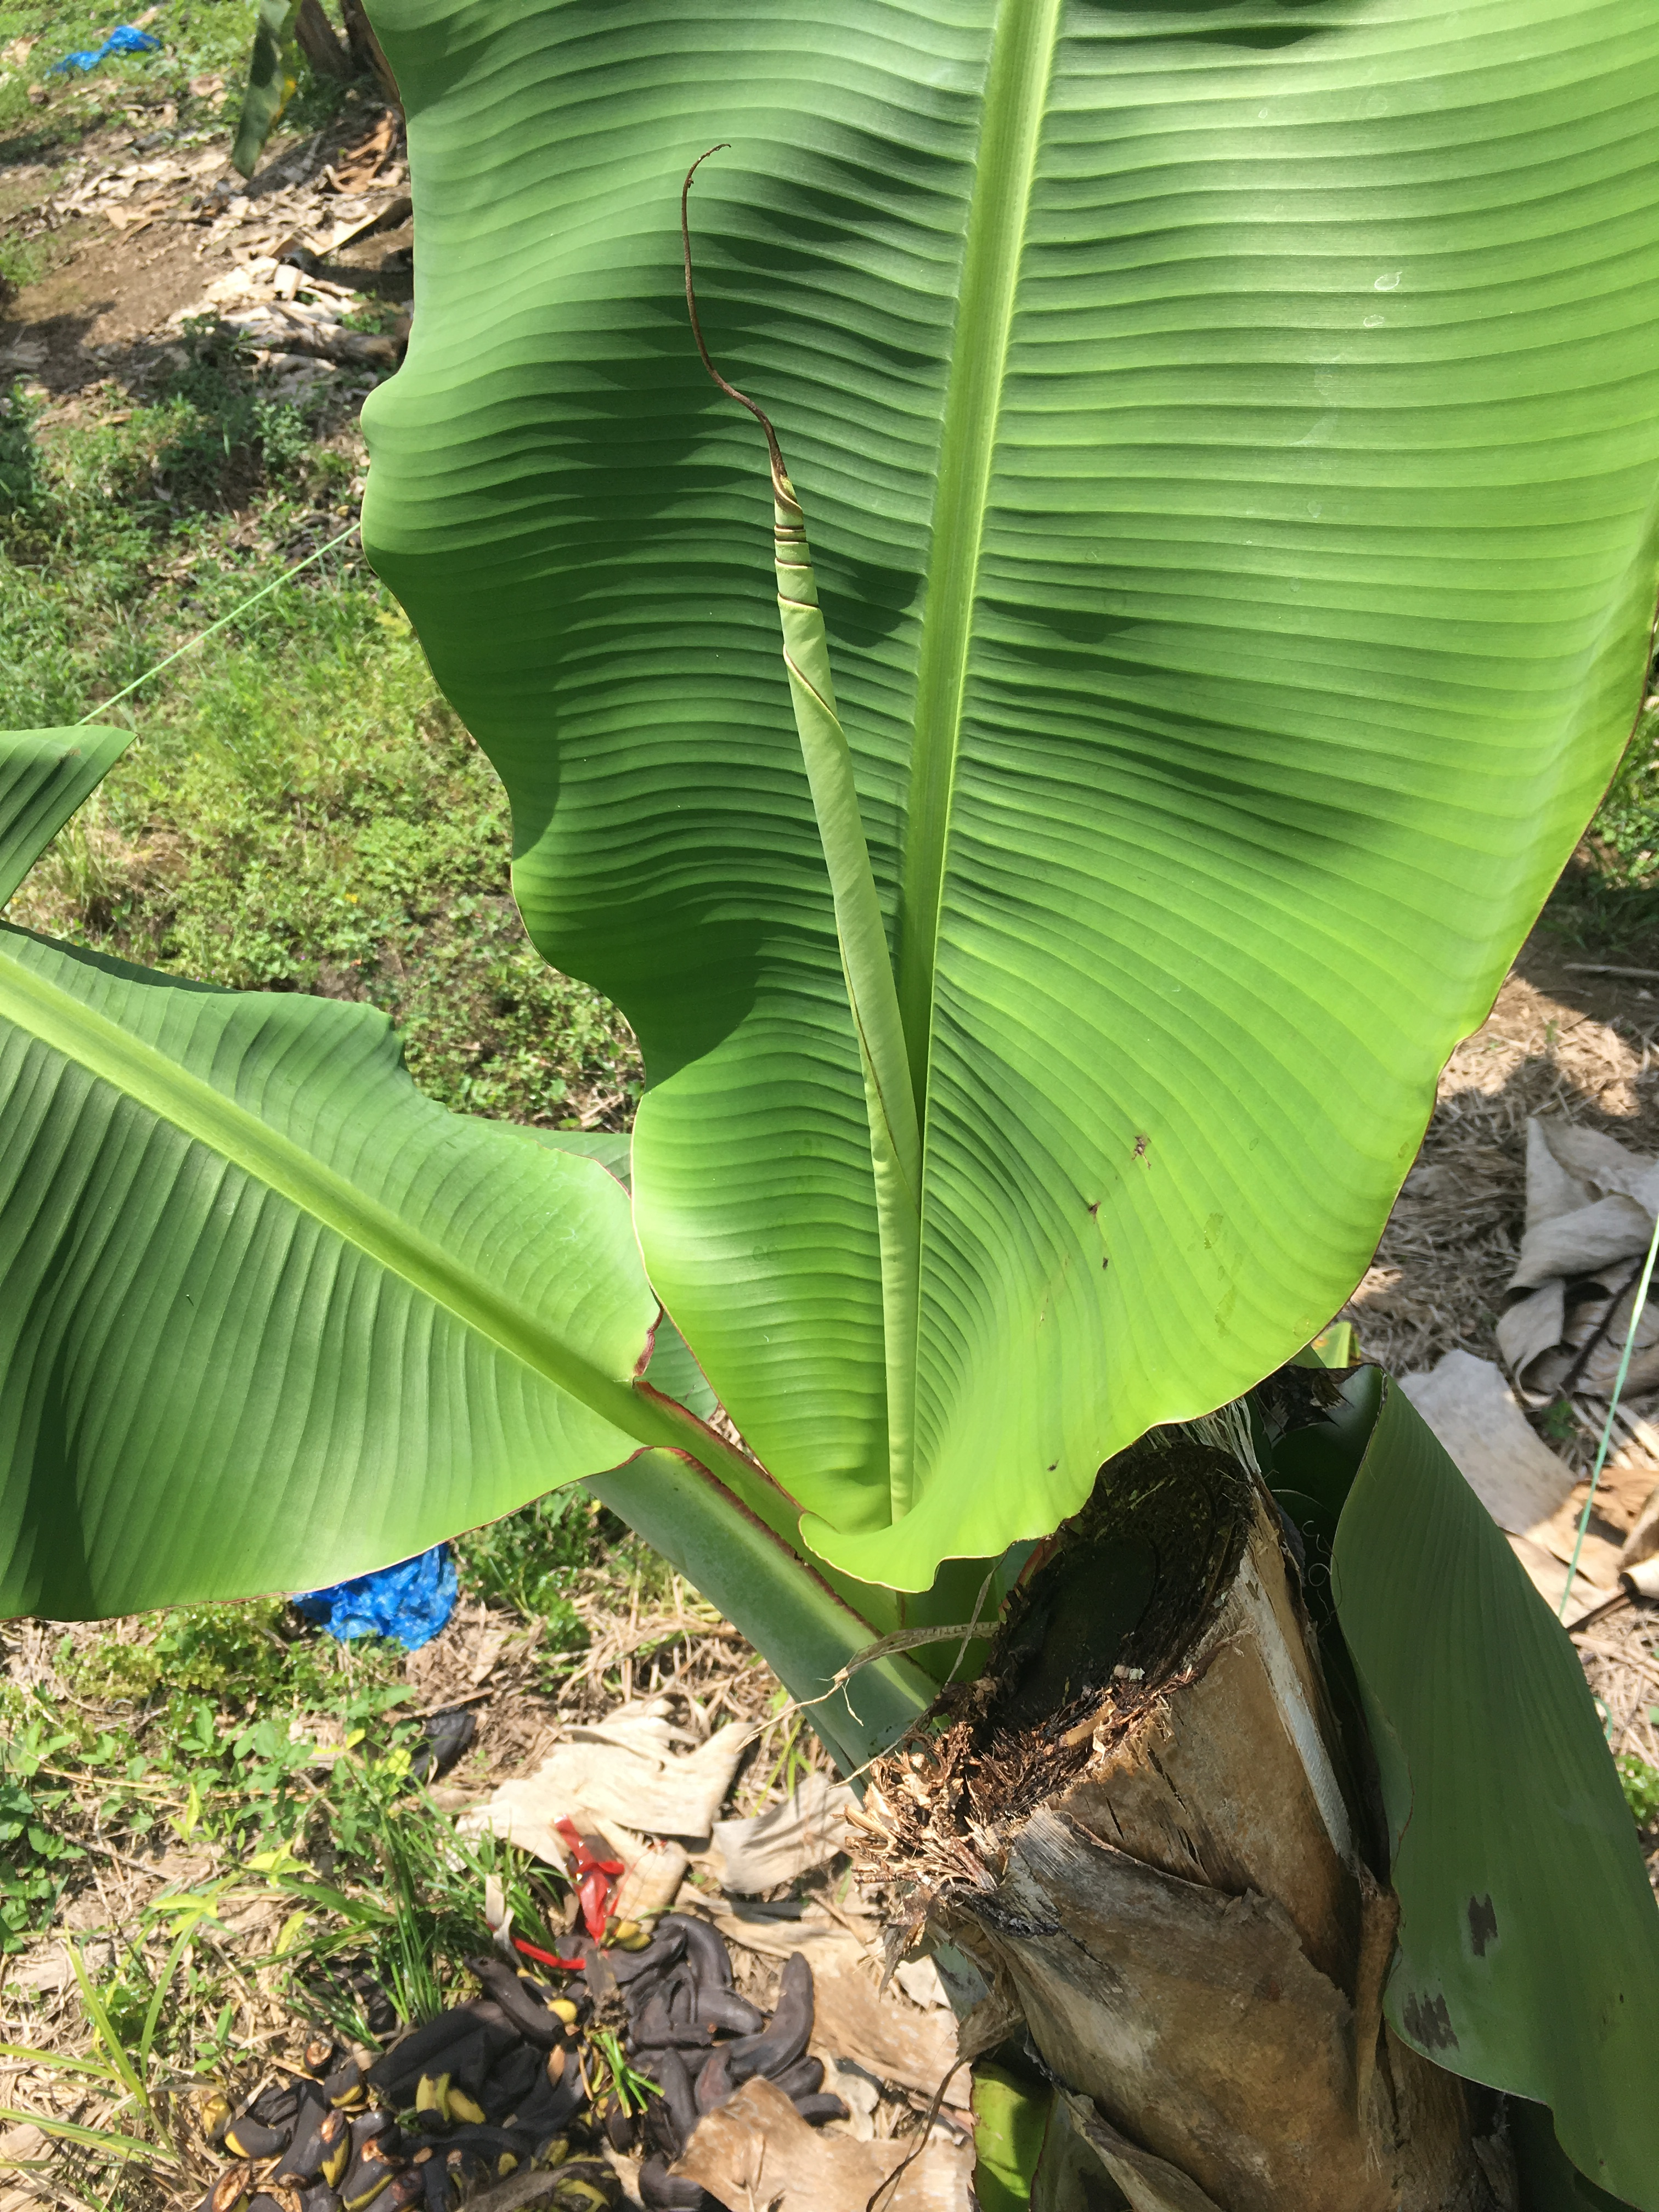candleleafs: (683, 145, 939, 1527)
